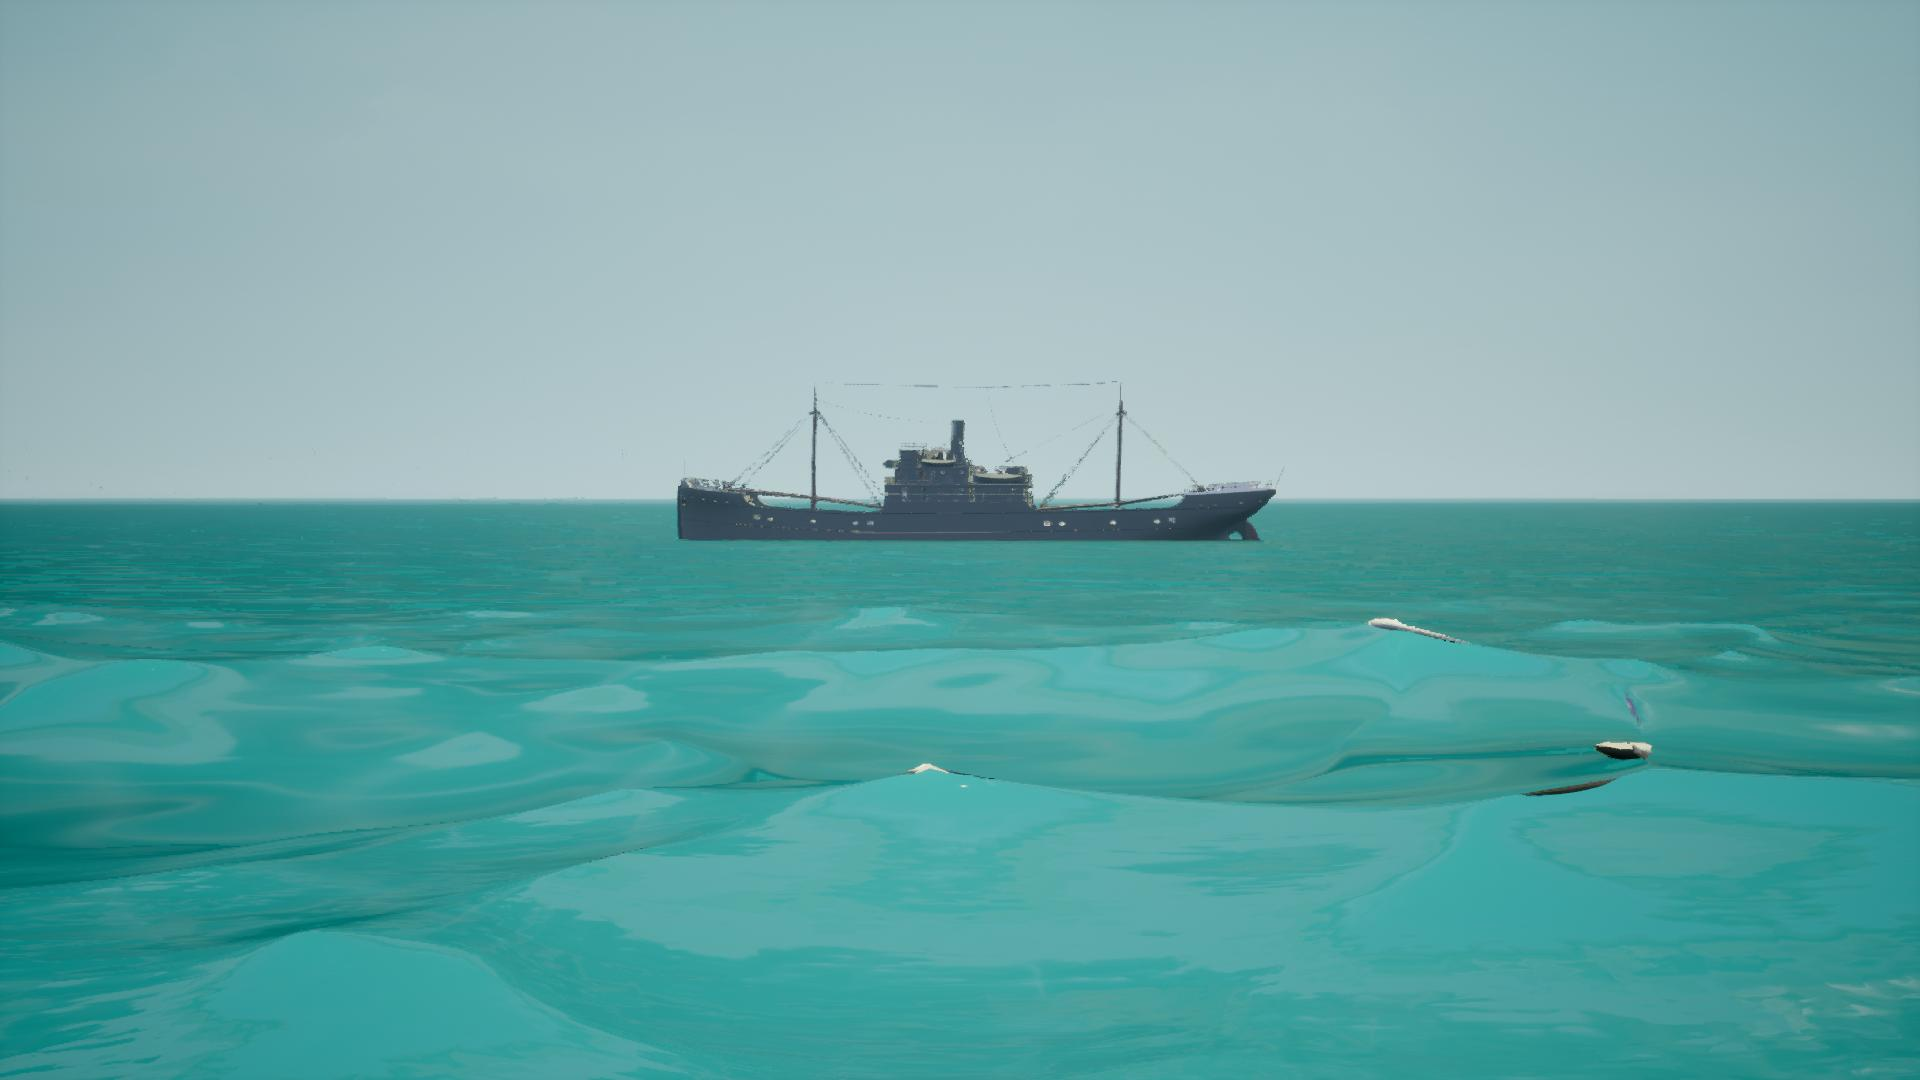Fishing Boat: (674, 381, 1279, 543)
